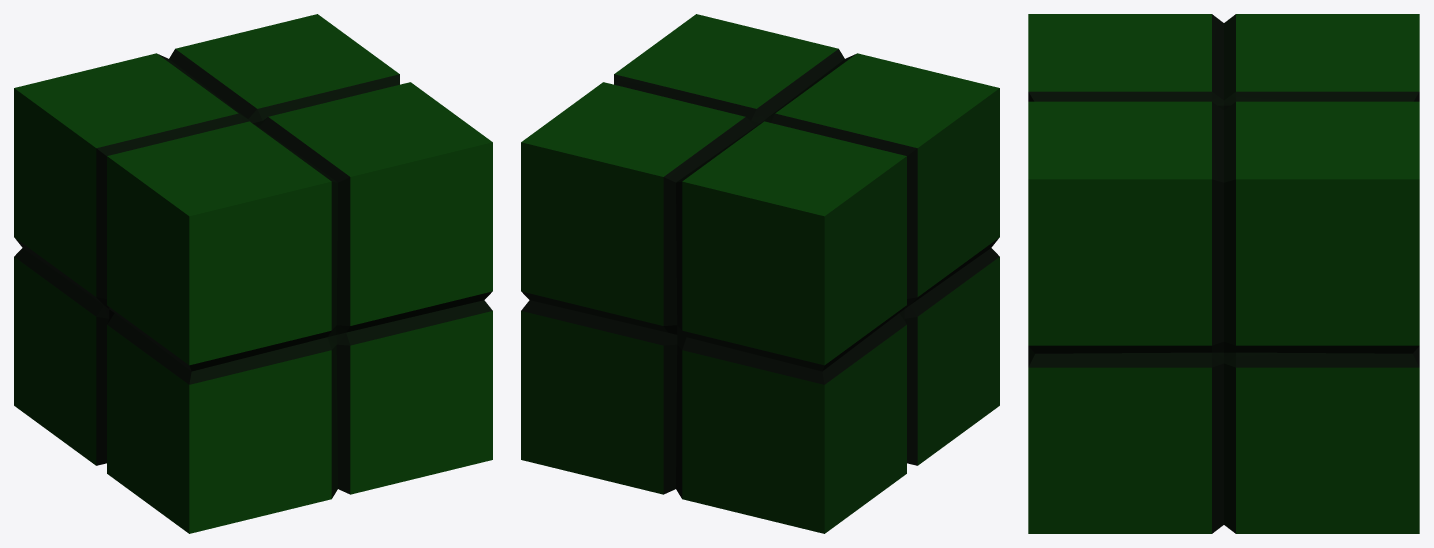
File: MagnetCube.FBX
3 views of the same model, side by side, from view 1: azimuth 30°, elevation 25°; view 2: azimuth 150°, elevation 25°; view 3: azimuth 270°, elevation 25° (orthographic). The views are drawn at different scales.
Parts seen in each view (by area): view 1: CuboRepele; view 2: CuboRepele; view 3: CuboRepele.
Part boxes in pixels (x1=…): CuboRepele: x1=14, y1=14, x2=492, y2=533; CuboRepele: x1=521, y1=14, x2=999, y2=533; CuboRepele: x1=1028, y1=14, x2=1419, y2=533.
Size of the model in its own units: 1 by 1 by 1.
